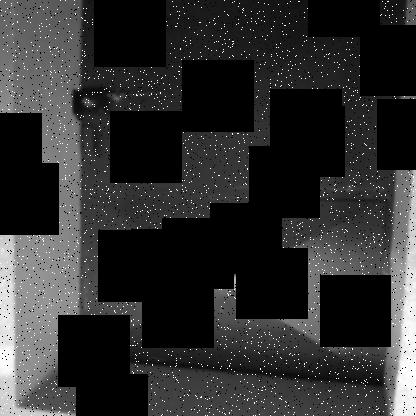Porte: (9, 1, 415, 415)
